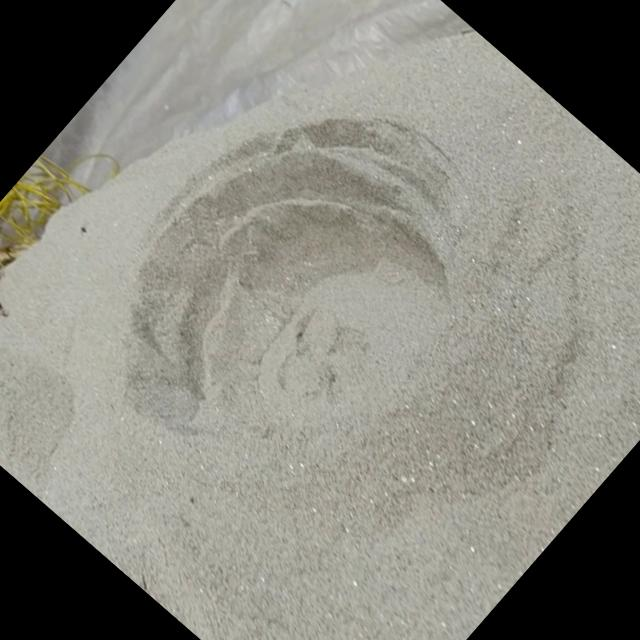C20: (126, 123, 453, 437)
